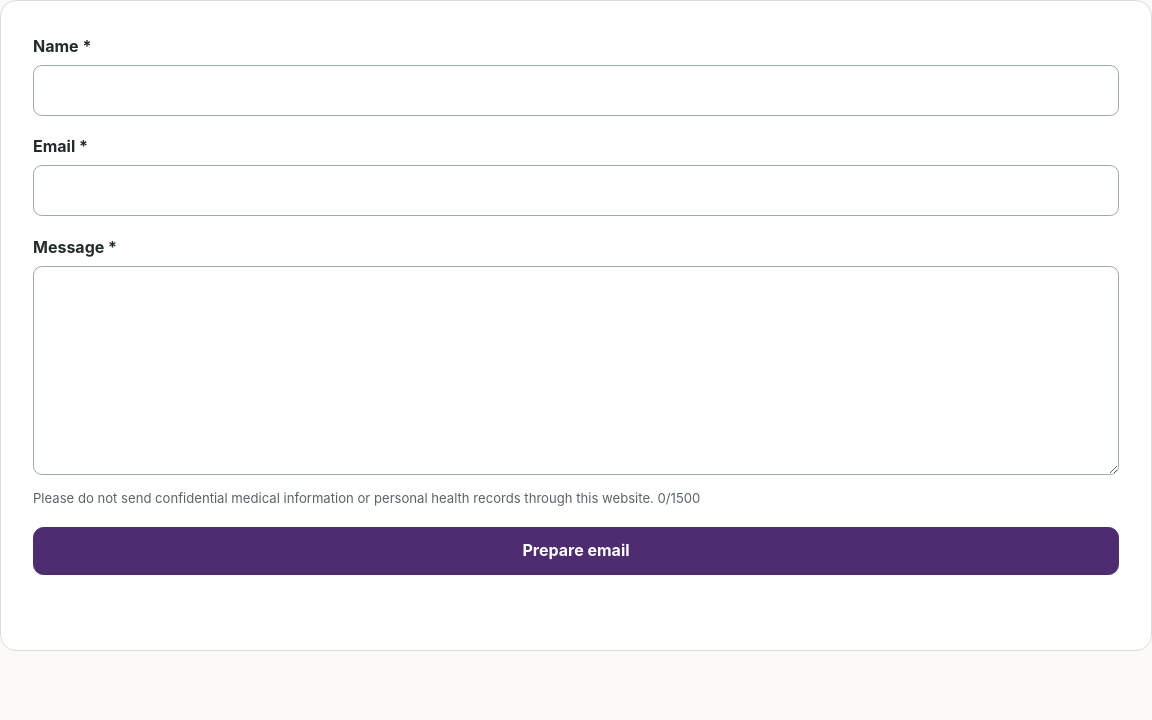
Test: ContactForm › opens a prefilled email draft without claiming delivery
The image size is (1152, 720).
In the field labelled "Name *": (576, 90) top-left (33, 65), bottom-right (1119, 116), type "QA Reader"
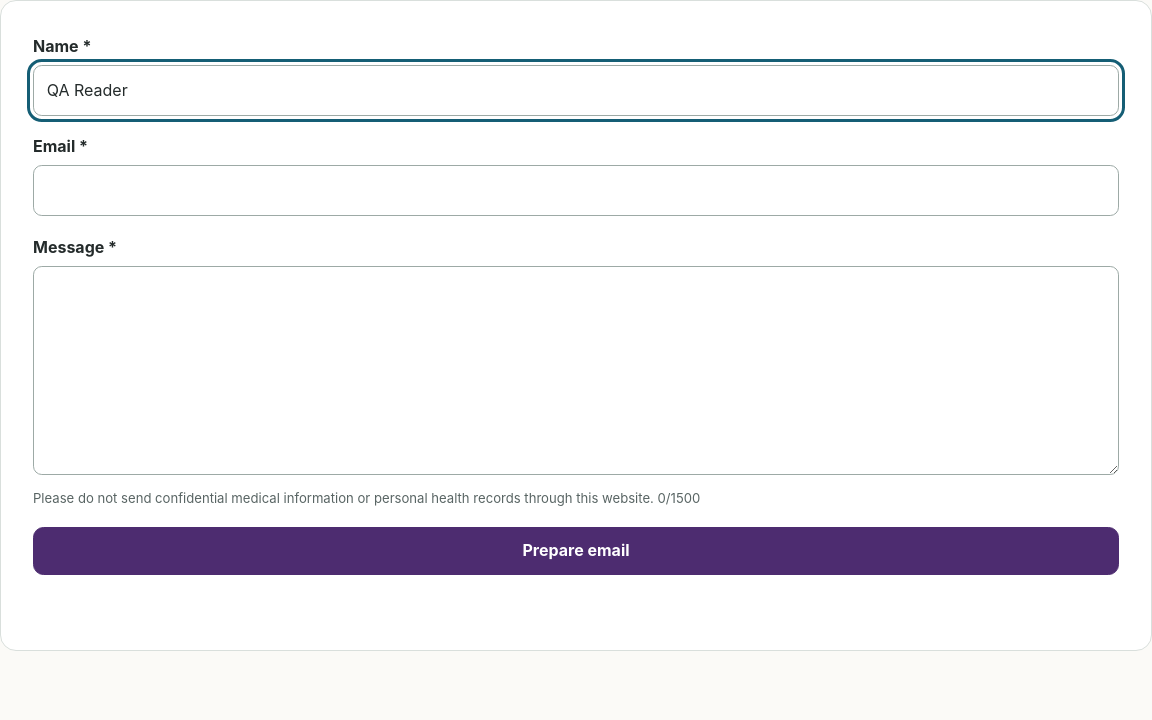
In the field labelled "Email *": (576, 191) top-left (33, 165), bottom-right (1119, 216), type "reader@example.com"
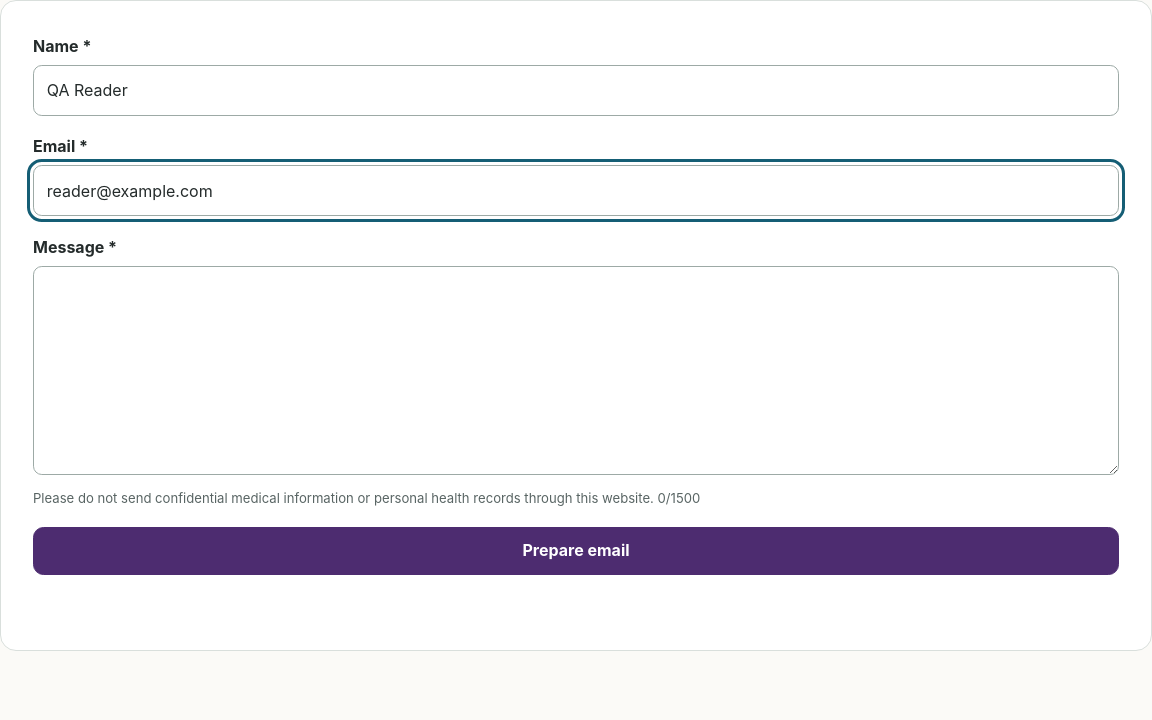
In the text box labelled "Message *": (576, 370) top-left (33, 266), bottom-right (1119, 475), type "This is a general website question."
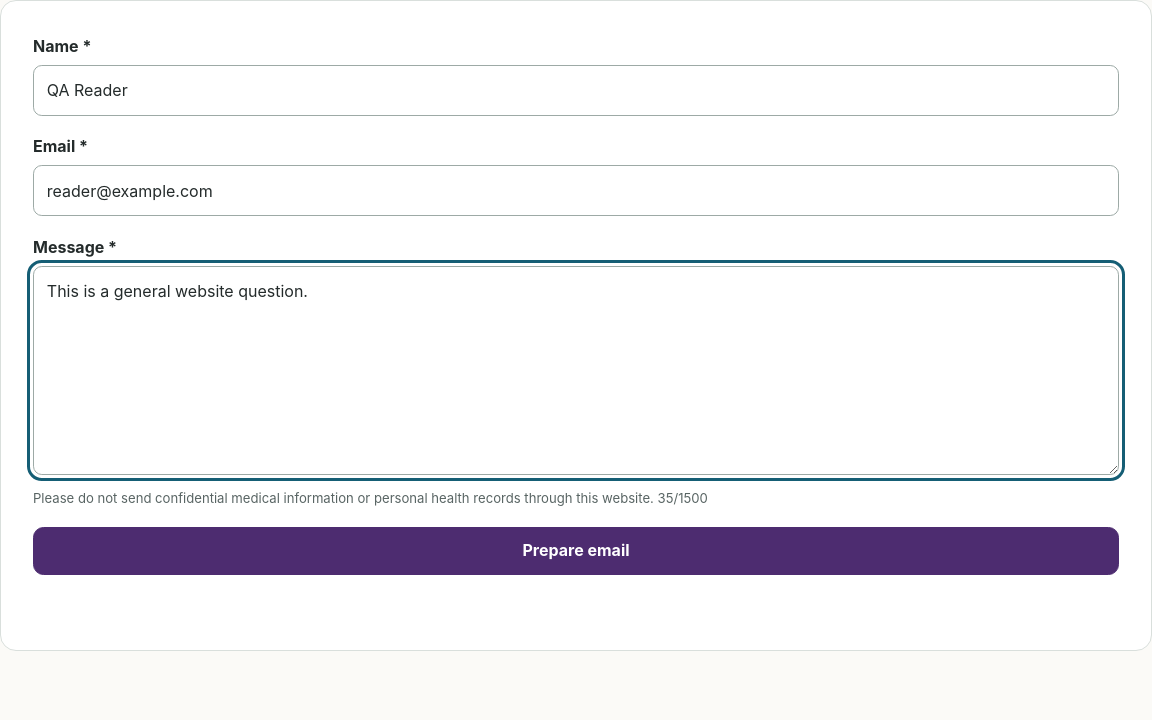
Click the button "Prepare email": (576, 551) top-left (33, 527), bottom-right (1119, 575)
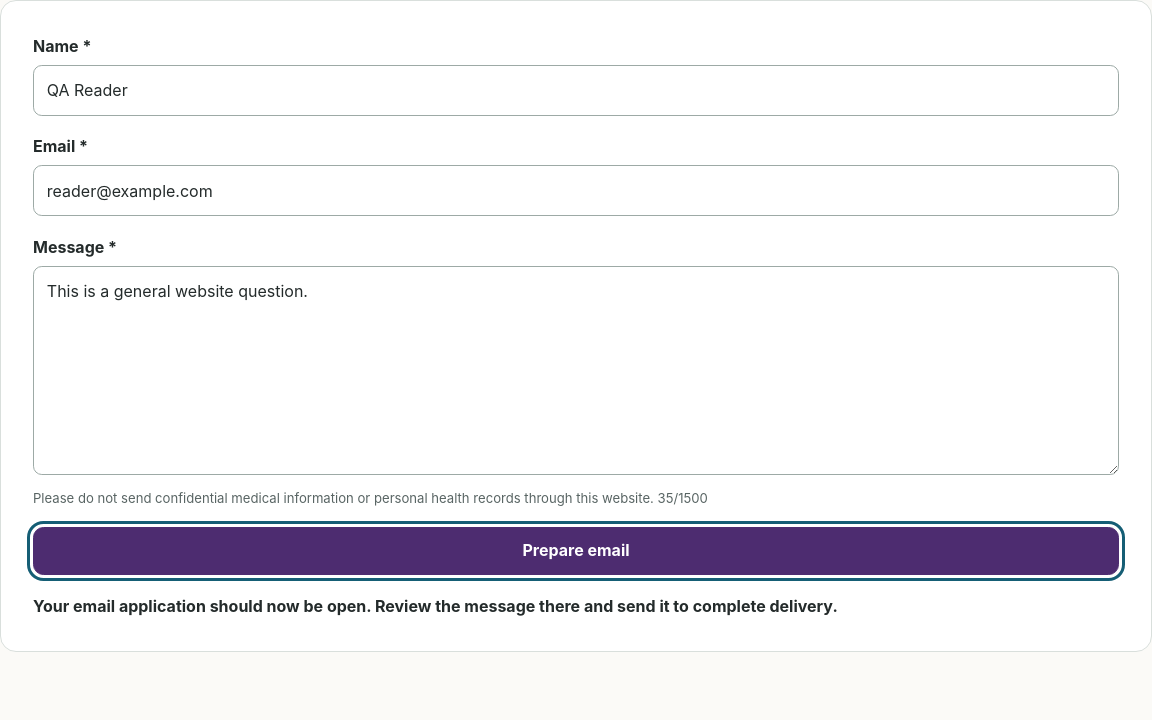
expect the message shows "Review the message there and send it": met, box top-left (33, 596), bottom-right (838, 616)
